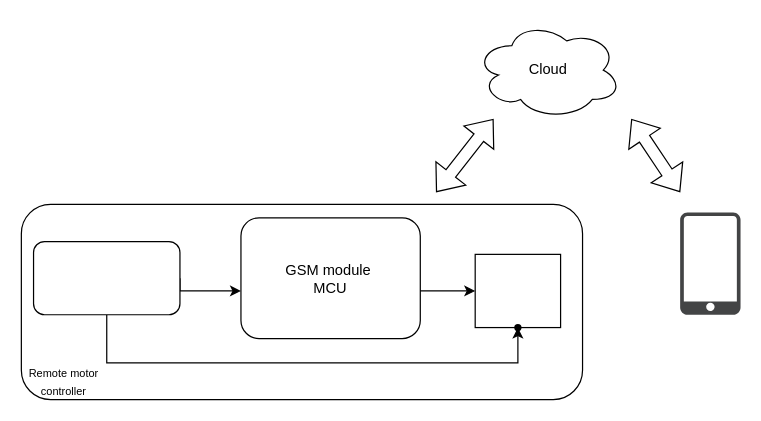
Some shapes in this 761 by 421 pixel diagram are drawn without their labels. The box of each missing label's shape, as (x1, y1, x2, y2) in pixels:
Power Section with Battery Powered: (32, 240, 180, 315)
Relay Module: (474, 253, 561, 328)
